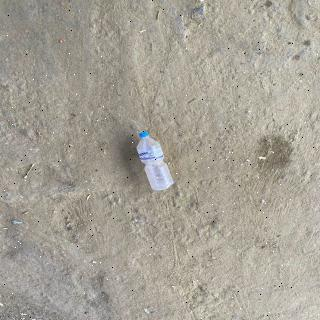Plastic-bottle: (134, 131, 177, 193)
